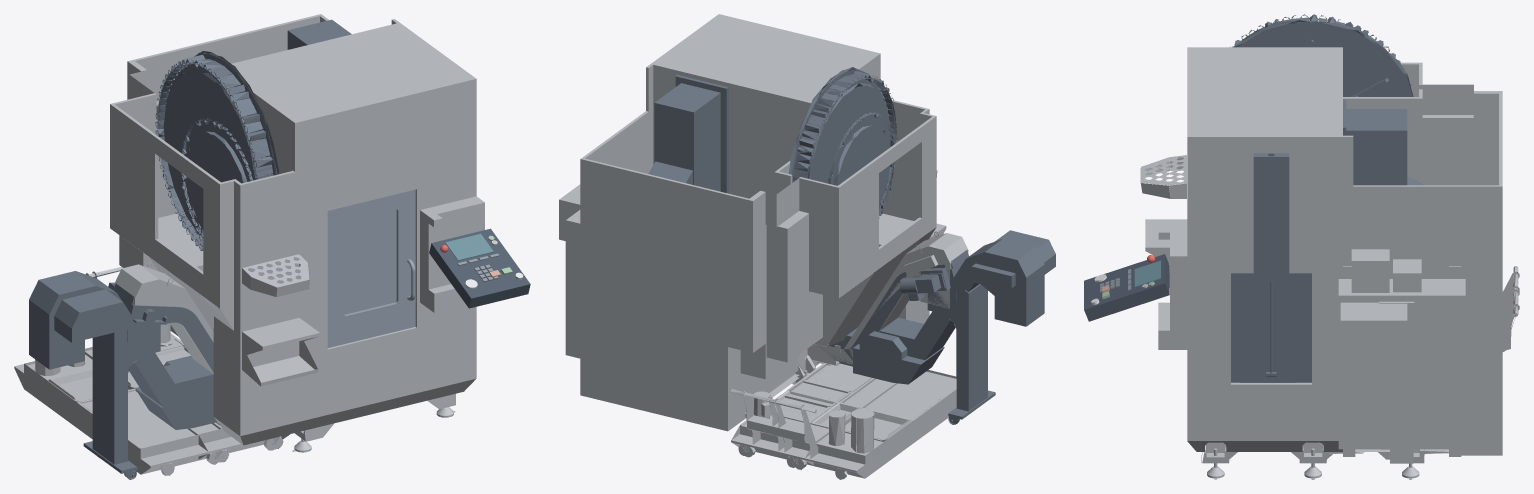
The model's file is haas-umc500-v2.glb.
3 renders of one model, left to right at view 1: azimuth 30°, elevation 25°; view 2: azimuth 150°, elevation 25°; view 3: azimuth 270°, elevation 25°, orthographic. The views are drawn at different scales.
Visible parts, largest first — view 1: NAUO18, NAUO27, Door_Mesh, NAUO23, NAUO25, Panel_Housing, NAUO22, NAUO26, NAUO28, NAUO24, NAUO12, Screen_Diagnostics (+1 smaller); view 2: NAUO18, NAUO27, NAUO25, NAUO12, NAUO23, NAUO24, NAUO26, NAUO28, NAUO22, NAUO1; view 3: NAUO18, NAUO19, NAUO23, NAUO12, Panel_Housing, NAUO1, NAUO2, NAUO24, Screen_Diagnostics, NAUO25.
Part boxes in pixels (x1,y1,x2,y2): NAUO18: [110, 14, 484, 445]; NAUO27: [29, 271, 217, 479]; Door_Mesh: [327, 189, 415, 347]; NAUO23: [155, 51, 278, 250]; NAUO25: [14, 271, 290, 475]; Panel_Housing: [429, 228, 530, 308]; NAUO22: [180, 116, 271, 241]; NAUO26: [114, 262, 213, 373]; NAUO28: [108, 282, 213, 372]; NAUO24: [82, 266, 279, 464]; NAUO12: [287, 19, 351, 49]; Screen_Diagnostics: [445, 233, 493, 260]; NAUO18: [559, 14, 946, 431]; NAUO27: [831, 230, 1055, 424]; NAUO25: [731, 363, 956, 479]; NAUO12: [648, 75, 728, 193]; NAUO23: [789, 67, 897, 212]; NAUO24: [730, 363, 897, 469]; NAUO26: [819, 231, 968, 364]; NAUO28: [830, 250, 969, 364]; NAUO22: [828, 111, 895, 218]; NAUO1: [768, 344, 840, 397]; NAUO18: [1140, 47, 1502, 463]; NAUO19: [1231, 153, 1311, 382]; NAUO23: [1232, 14, 1413, 96]; NAUO12: [1343, 99, 1424, 185]; Panel_Housing: [1084, 254, 1169, 321]; NAUO1: [1201, 174, 1448, 463]; NAUO2: [1207, 448, 1419, 478]; NAUO24: [1502, 281, 1519, 351]; Screen_Diagnostics: [1134, 260, 1160, 287]; NAUO25: [1502, 266, 1519, 323].
Bounding box in the file's own units: 3.94 × 2.93 × 3.14.
